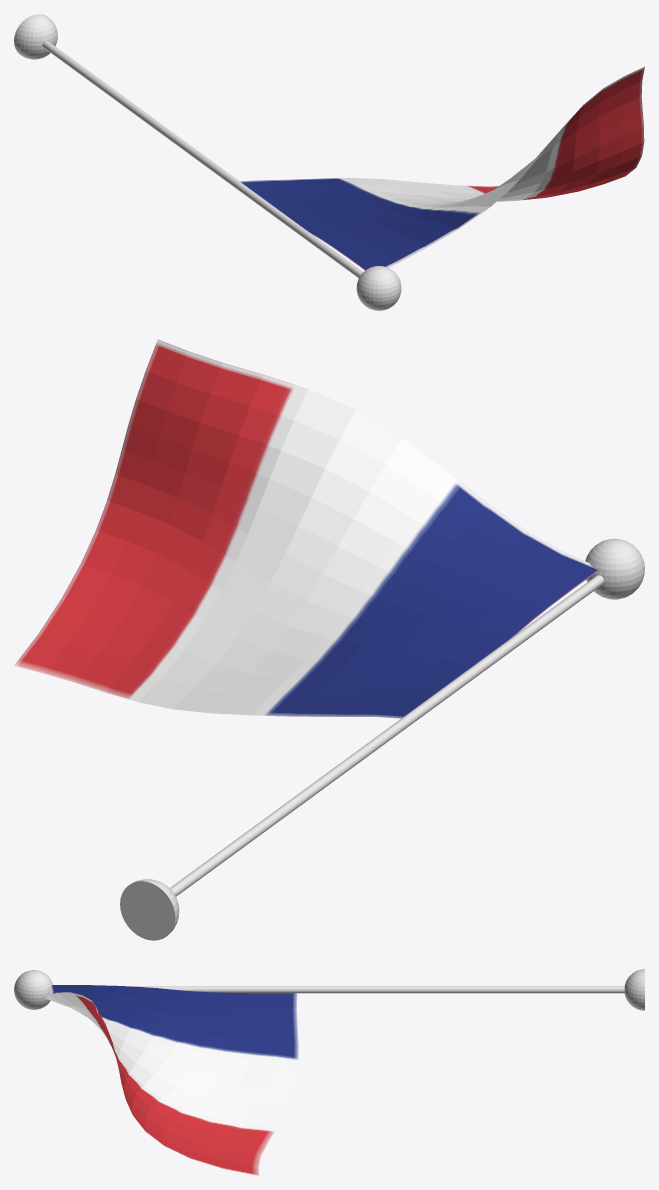
File: france.glb
3 views of the same model, one above another, from view 1: azimuth 30°, elevation 25°; view 2: azimuth 150°, elevation 25°; view 3: azimuth 270°, elevation 25° (orthographic). The views are drawn at different scales.
Parts seen in each view (by area): view 1: Plane.008, Cylinder.012, Sphere.033, Sphere.032; view 2: Plane.008, Cylinder.012, Sphere.032, Sphere.033; view 3: Plane.008, Cylinder.012, Sphere.033, Sphere.032.
Boxes of the visible parts, <box> form: Plane.008: <box>240,66,644,270</box>; Cylinder.012: <box>42,40,363,278</box>; Sphere.033: <box>356,266,401,310</box>; Sphere.032: <box>14,14,57,59</box>; Plane.008: <box>14,339,598,718</box>; Cylinder.012: <box>170,575,604,896</box>; Sphere.032: <box>120,879,179,940</box>; Sphere.033: <box>585,538,644,599</box>; Plane.008: <box>45,985,298,1175</box>; Cylinder.012: <box>132,986,624,993</box>; Sphere.033: <box>14,970,52,1009</box>; Sphere.032: <box>624,969,644,1010</box>.
Size of what is drawn, in the model's own units: 0.8806 by 0.4405 by 1.59.
Materials: 2 (1 with a texture image).
